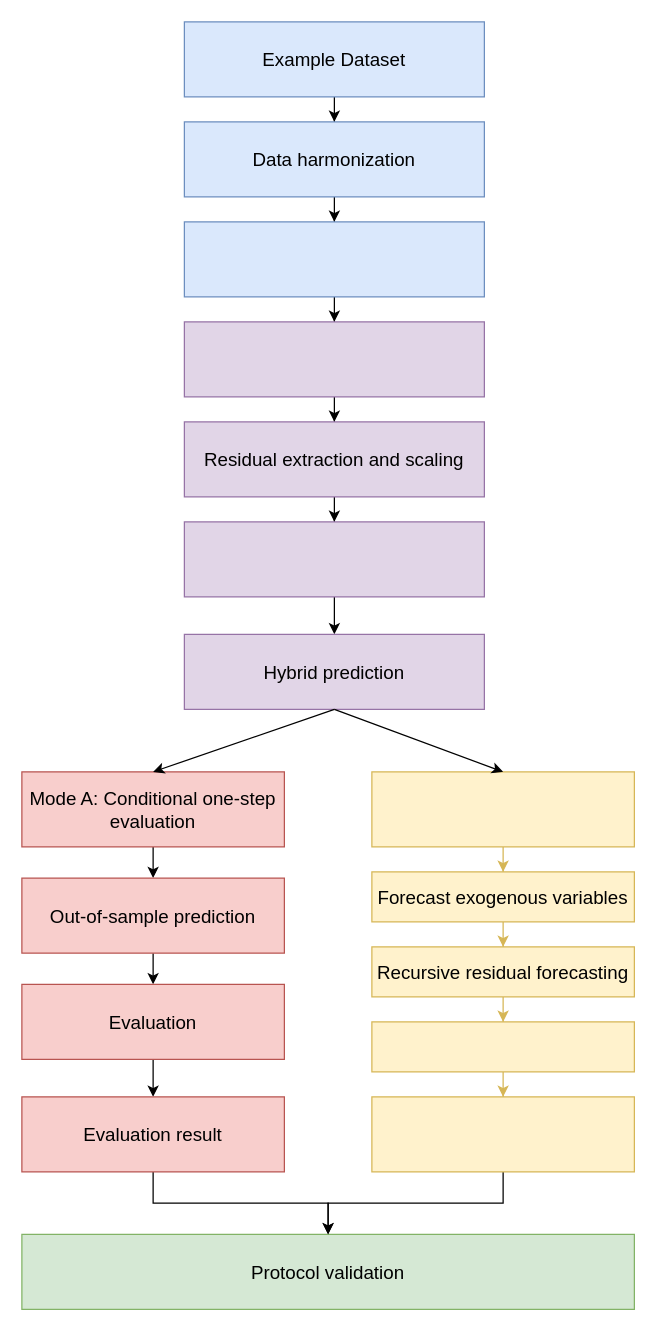
This 656x1331 diagram has some shape labels left out. Here are the shapes that lost their labels. From the top down, the centre of each, then its label:
At (333,259): "Chronological split".
At (333,359): "Multivariate prophet with 7 exogenous regressors".
At (333,559): "Residual LstM (univariate)".
At (502,809): "Mode B: Operational recursive forecasting".
At (502,1046): "Boundary-continuity re-anchoring".
At (502,1134): "Final operational forecast".
